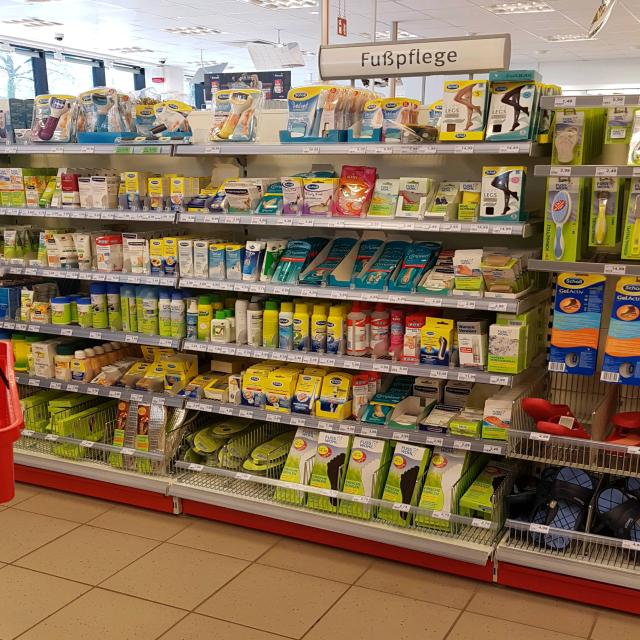empty: (183, 94, 212, 145), (257, 94, 285, 143)
